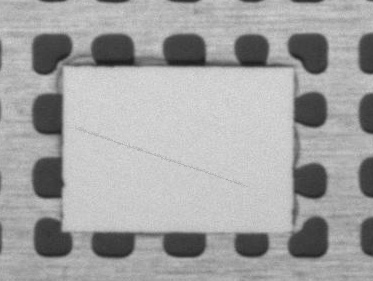DIE_CRACK: (101, 96, 328, 140)
